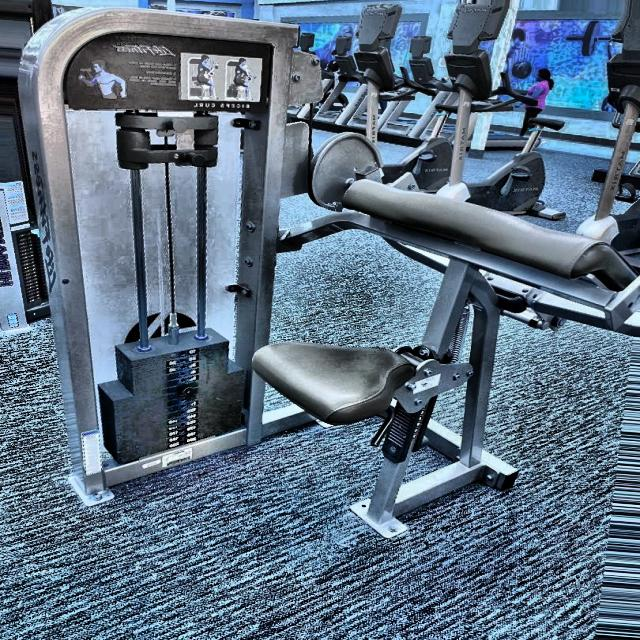bicep_curl_machine: (296, 121, 638, 358), (61, 30, 275, 128)
